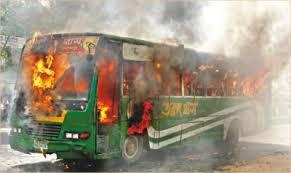fire: (178, 60, 271, 96), (24, 35, 69, 90)
